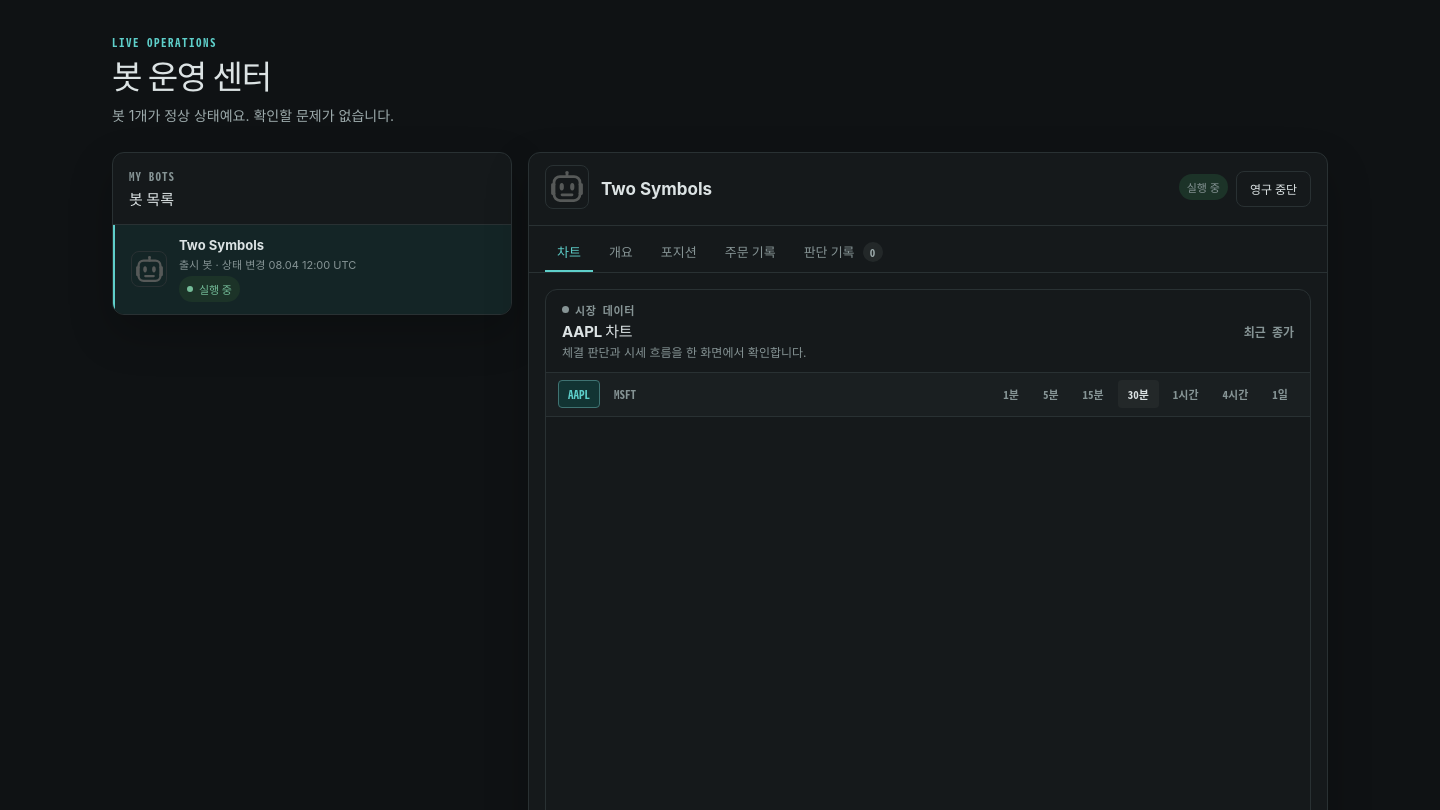
Test: production runtime honesty › clears the previous symbol market bars while the next symbol is loading
Expected: the text "시장 데이터" is shown, [562, 302, 635, 318]
What coordinates should you click on to do the following:
click the button "4시간"
I would click on:
 (1236, 394)
Its box is [1213, 380, 1258, 408].
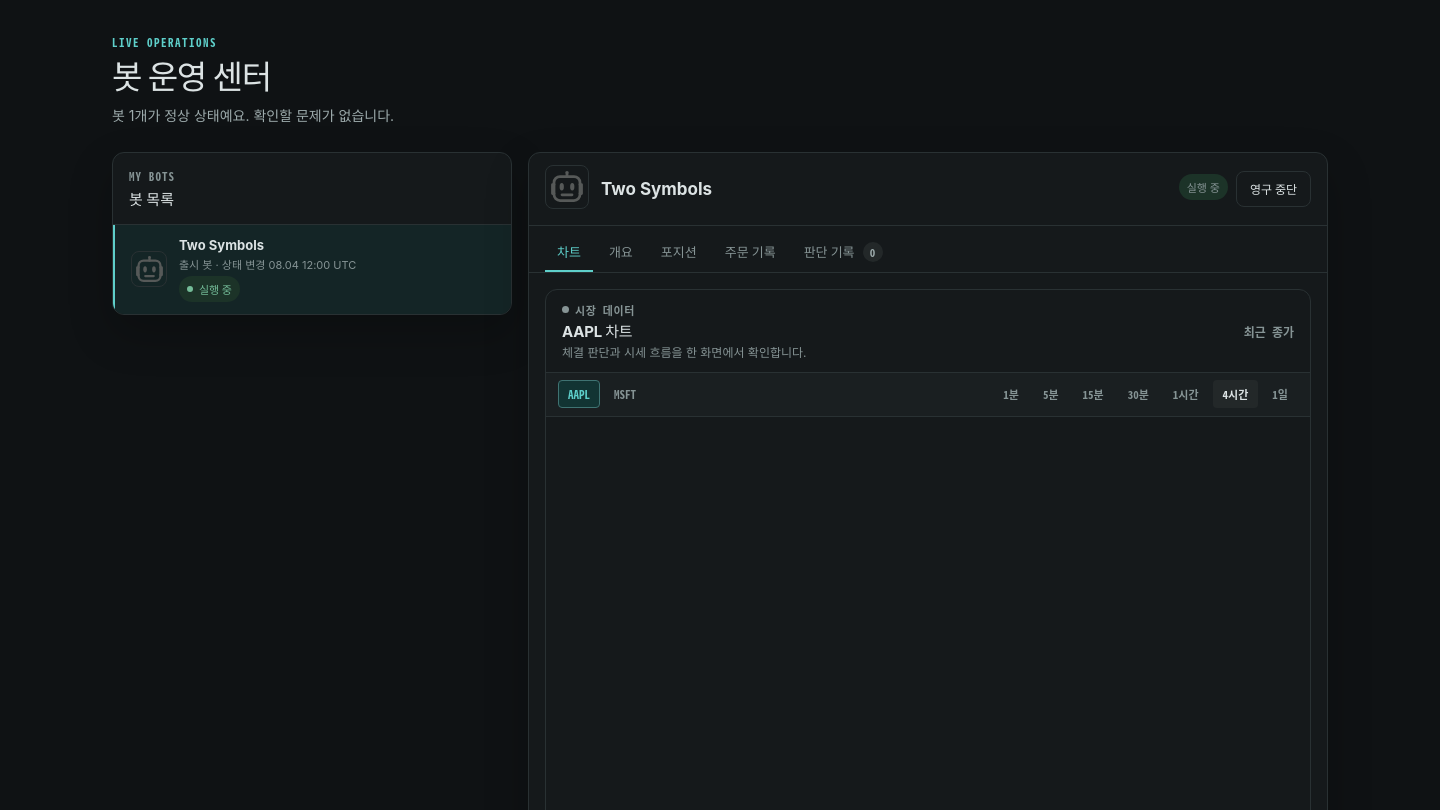
What coordinates should you click on to do the following:
click the button with aria-label "MSFT 차트 보기"
I would click on:
 (625, 394)
Its box is [604, 380, 646, 408].
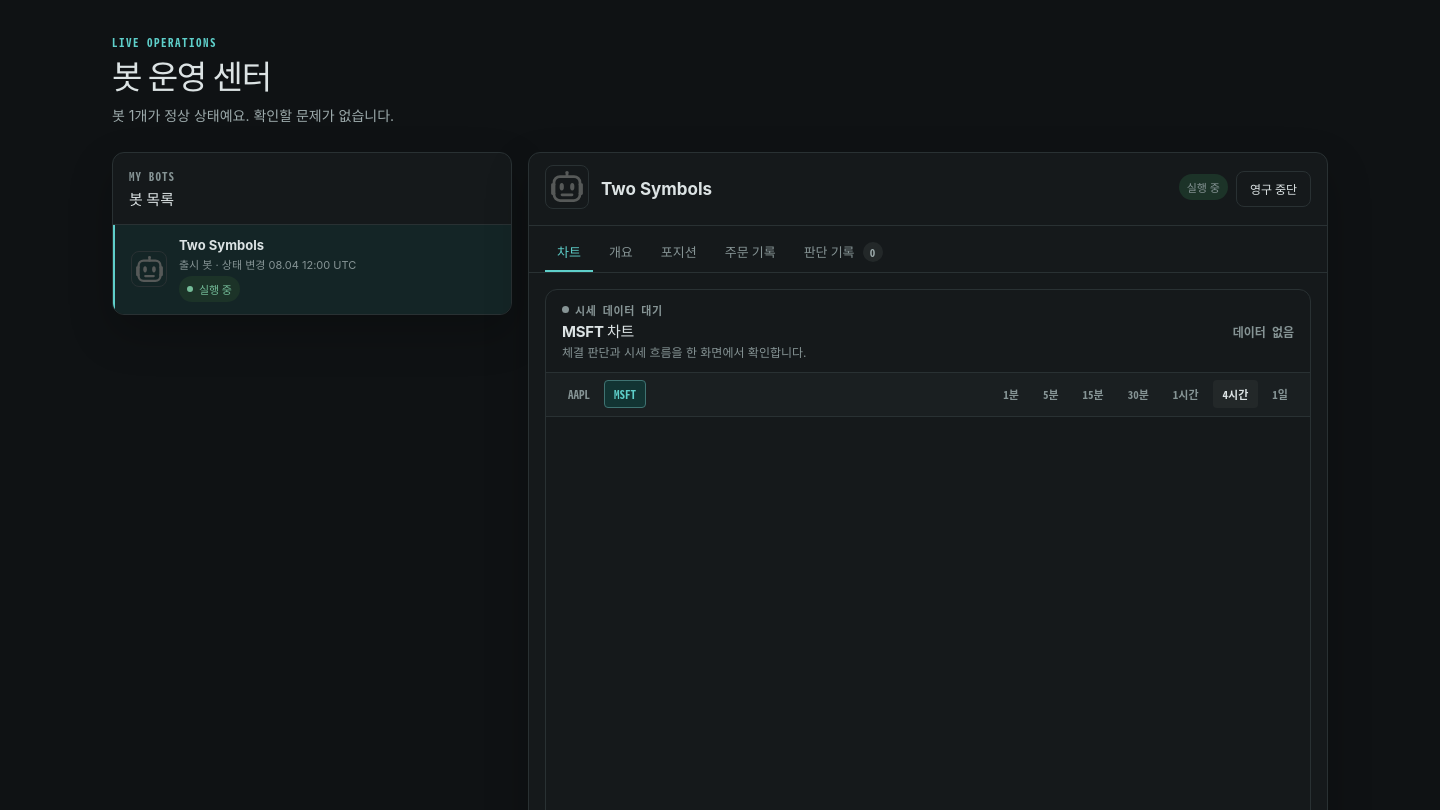
Now the text "시세 데이터 대기" is shown, box [562, 302, 663, 318]
Now the text "시장 데이터" is gone
